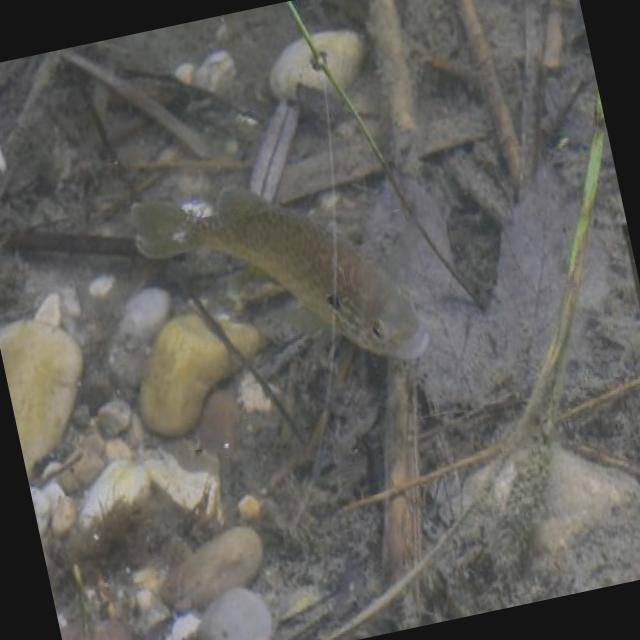Gunes Levregi: (120, 132, 438, 424)
